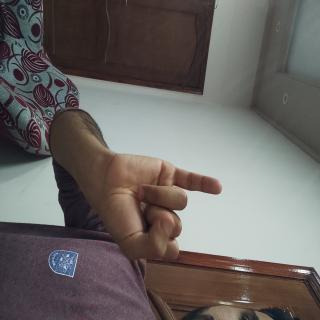MEEM: (106, 124, 200, 311)
